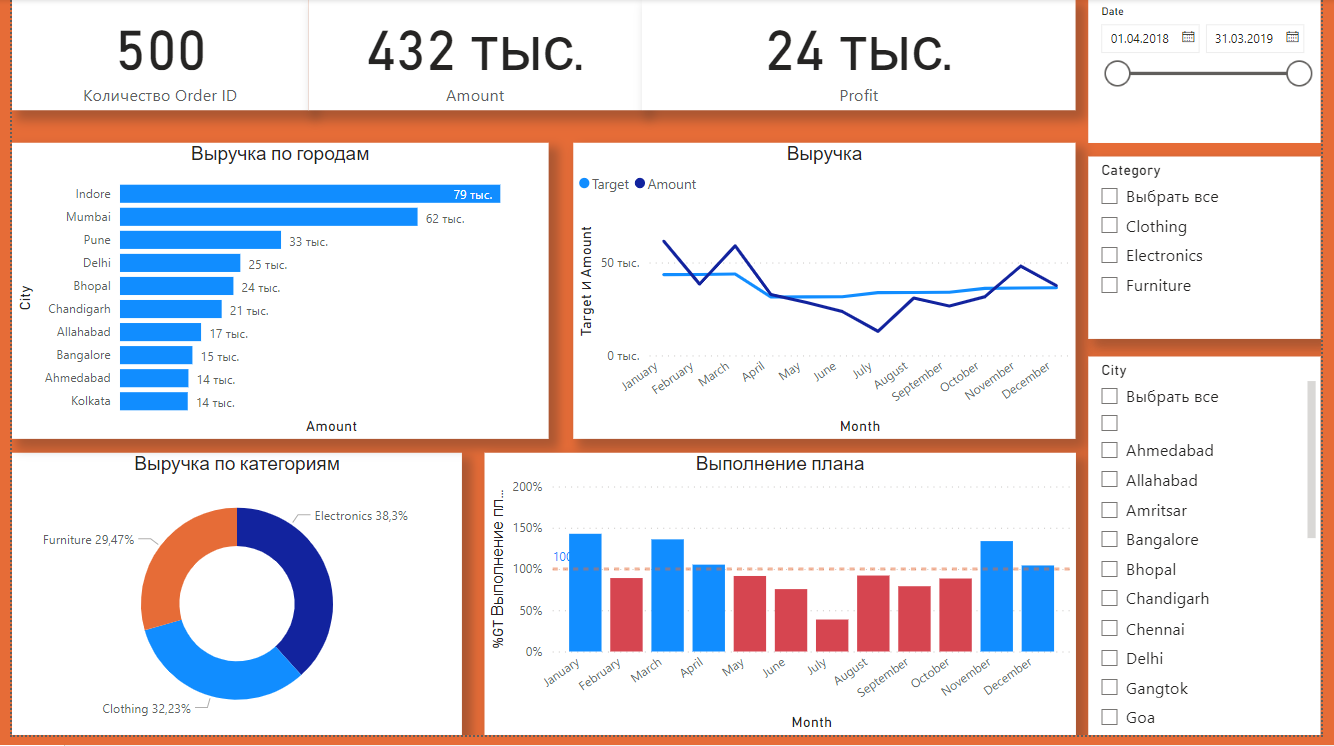

What the dashboard file says about the page in this screenshot:
{"tool":"powerbi","page":{"name":"Страница 1","canvas":[1280,720],"ordinal":0},"visuals":[{"type":"card","fields":{"Values":["Count(Order Details.Order ID)"]},"box":[0,0,289.7,108.8],"z":0},{"type":"card","fields":{"Values":["Sum(Order Details.Amount)"]},"box":[289.7,0,326.4,108.8],"z":1000},{"type":"card","fields":{"Values":["Sum(Order Details.Profit)"]},"box":[616.1,0,424.2,108.8],"z":2000},{"type":"donutChart","title":"Выручка по категориям","fields":{"Category":["Order Details.Category"],"Y":["Sum(Order Details.Amount)"]},"box":[0,443.7,440.1,276.3],"z":4000},{"type":"lineChart","title":"Выручка","fields":{"Category":["Calendar.Month.Изменение.Date Hierarchy.Month"],"Y":["Sum(Sales target.Target)","Sum(Order Details.Amount)"]},"box":[548.9,140.6,491.4,289.7],"z":4500},{"type":"clusteredBarChart","title":"Выручка по городам ","fields":{"Category":["List of Orders.City"],"Y":["Sum(Order Details.Amount)"]},"box":[0,140.6,524.4,289.7],"z":5000},{"type":"clusteredColumnChart","title":"Выполнение плана","fields":{"Y":["Order Details.Выполнение плана"],"Category":["Calendar.Date.Изменение.Date Hierarchy.Month"]},"box":[462.1,443.7,578.2,276.3],"z":6000},{"type":"slicer","fields":{"Values":["Calendar.Date"]},"box":[1052.5,0,227.4,140.6],"z":7000},{"type":"slicer","fields":{"Values":["Order Details.Category"]},"box":[1052.5,154,227.4,178.5],"z":8000},{"type":"slicer","fields":{"Values":["List of Orders.City"]},"box":[1052.5,349.6,227.4,370.4],"z":9000}]}

Visuals, with their boxes in screenshot pixels (x1, y1, x2, y2), scaled from the page's 1280x720 canvas onto the 1334x746 screenshot:
card - Count(Order Details.Order ID): [0, 0, 302, 113]
card - Sum(Order Details.Amount): [302, 0, 642, 113]
card - Sum(Order Details.Profit): [642, 0, 1084, 113]
"Выручка по категориям" donutChart: [0, 460, 459, 745]
"Выручка" lineChart: [572, 146, 1084, 446]
"Выручка по городам " clusteredBarChart: [0, 146, 547, 446]
"Выполнение плана" clusteredColumnChart: [482, 460, 1084, 745]
slicer - Calendar.Date: [1097, 0, 1333, 146]
slicer - Order Details.Category: [1097, 160, 1333, 345]
slicer - List of Orders.City: [1097, 362, 1333, 745]
